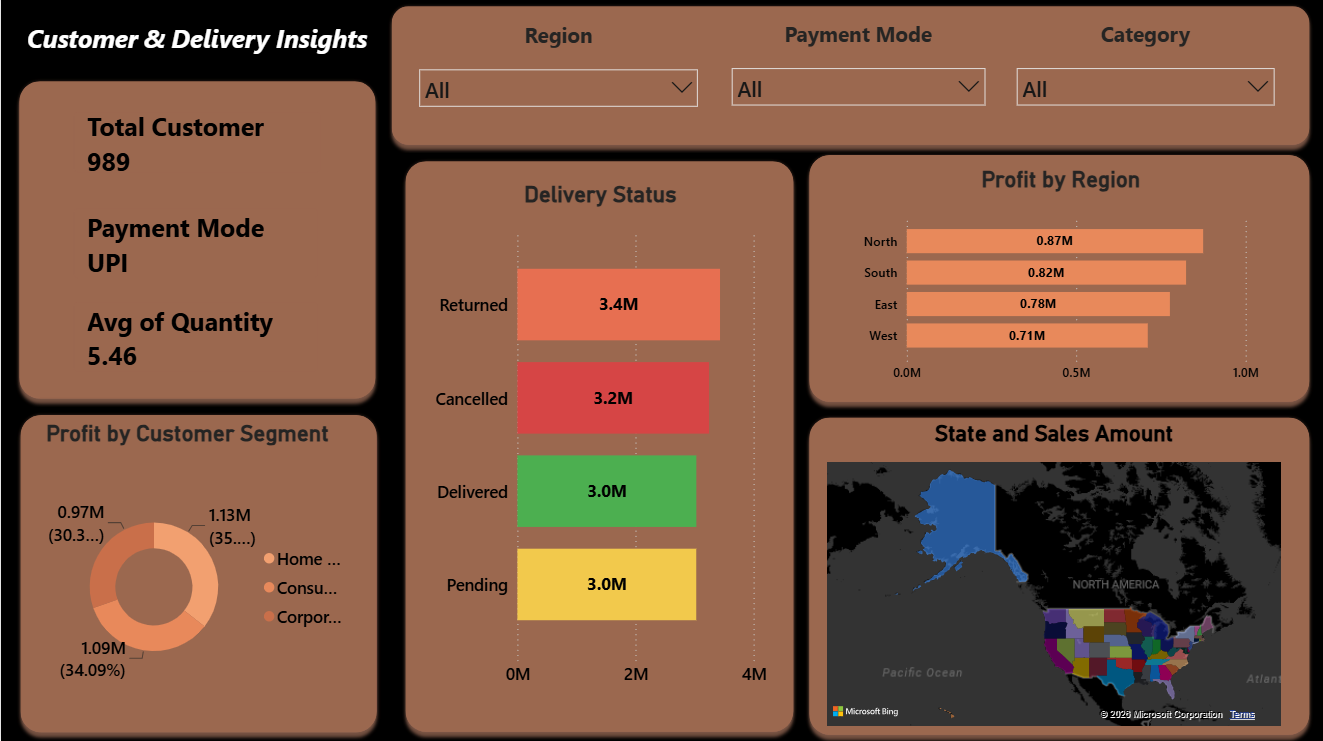

What the dashboard file says about the page in this screenshot:
{"tool":"powerbi","page":{"name":"Page 3","canvas":[1280,720],"ordinal":2},"visuals":[{"type":"textbox","box":[9.6,0,359.5,63.1],"z":0},{"type":"shape","box":[369.1,0,901.5,149.6],"z":1000},{"type":"slicer","title":"Region","fields":{"Values":["store_management_system.Region"]},"box":[393.3,21.1,289.5,101.5],"z":2000},{"type":"slicer","title":"Payment Mode","fields":{"Values":["store_management_system.Payment Mode"]},"box":[694.3,20.6,264.8,101.5],"z":3000},{"type":"slicer","title":"Category","fields":{"Values":["store_management_system.Category"]},"box":[970.2,20.6,269,101.5],"z":4000},{"type":"shape","box":[9.7,72.2,359.7,322.2],"z":5000},{"type":"cardVisual","fields":{"Data":["Count(store_management_system.Customer Name)"]},"box":[52.8,93.1,273.6,93.1],"z":6000},{"type":"cardVisual","fields":{"Data":["store_management_system.First Payment Mode max per Payment Mode"]},"box":[52.8,186.1,270.8,102.8],"z":7000},{"type":"cardVisual","fields":{"Data":["Avg(store_management_system.Quantity)"]},"box":[52.8,276.4,270.8,102.8],"z":8000},{"type":"shape","box":[11.1,394.4,359.7,322.2],"z":10000},{"type":"shape","box":[381.9,150,390.3,566.7],"z":10001},{"type":"shape","box":[772.2,397.2,498.6,322.2],"z":10002},{"type":"shape","box":[772.2,143.1,498.6,254.2],"z":10003},{"type":"barChart","title":"Delivery Status","fields":{"Category":["store_management_system.Delivery Status"],"Y":["Sum(store_management_system.Sales Amount)"]},"box":[412.5,177.8,331.9,497.2],"z":10004},{"type":"barChart","title":"Profit by Region","fields":{"Category":["store_management_system.Region"],"Y":["Sum(store_management_system.Profit)"]},"box":[826.4,162.5,393.1,216.7],"z":10005},{"type":"filledMap","fields":{"Category":["store_management_system.State"],"Series":["store_management_system.Sales Amount"]},"box":[793.1,408.3,447.2,300],"z":10006},{"type":"donutChart","title":"Profit by Customer Segment","fields":{"Category":["store_management_system.Customer Segment"],"Y":["Sum(store_management_system.Profit)"]},"box":[38.9,408.3,308.3,286.1],"z":10007}]}

Visuals, with their boxes in screenshot pixels (x1, y1, x2, y2), scaled from the page's 1280x720 canvas onto the 1323x741 screenshot:
textbox: bbox(10, 0, 381, 65)
shape: bbox(381, 0, 1313, 154)
"Region" slicer: bbox(407, 22, 706, 126)
"Payment Mode" slicer: bbox(718, 21, 991, 126)
"Category" slicer: bbox(1003, 21, 1281, 126)
shape: bbox(10, 74, 382, 406)
cardVisual - Count(store_management_system.Customer Name): bbox(55, 96, 337, 192)
cardVisual - store_management_system.First Payment Mode max per Payment Mode: bbox(55, 192, 334, 297)
cardVisual - Avg(store_management_system.Quantity): bbox(55, 284, 334, 390)
shape: bbox(11, 406, 383, 738)
shape: bbox(395, 154, 798, 738)
shape: bbox(798, 409, 1313, 740)
shape: bbox(798, 147, 1313, 409)
"Delivery Status" barChart: bbox(426, 183, 769, 695)
"Profit by Region" barChart: bbox(854, 167, 1260, 390)
filledMap - store_management_system.State x store_management_system.Sales Amount: bbox(820, 420, 1282, 729)
"Profit by Customer Segment" donutChart: bbox(40, 420, 359, 715)
